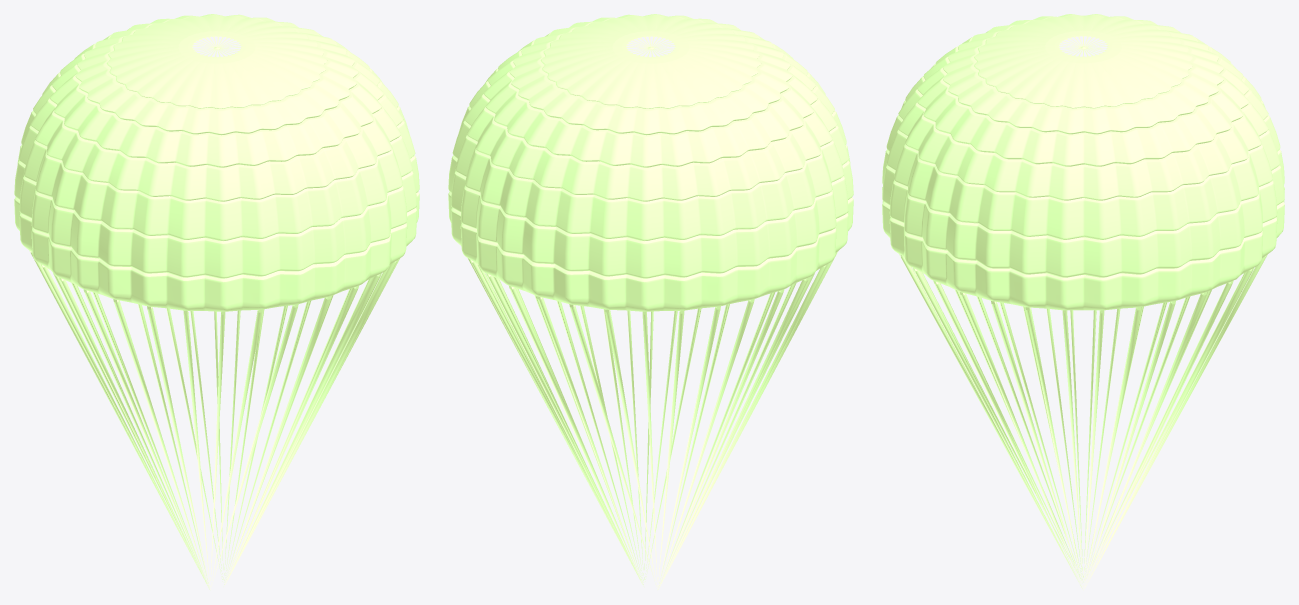
3 renders of one model, left to right at view 1: azimuth 30°, elevation 25°; view 2: azimuth 150°, elevation 25°; view 3: azimuth 270°, elevation 25°, orthographic.
Visible parts, largest first — view 1: pSphere1; view 2: pSphere1; view 3: pSphere1.
Boxes of the visible parts, x1,y1,x2,y2 form: pSphere1: [14, 14, 419, 589]; pSphere1: [448, 14, 853, 589]; pSphere1: [882, 14, 1284, 590].
Size of the model in its own units: 1.35 by 2 by 1.35.
